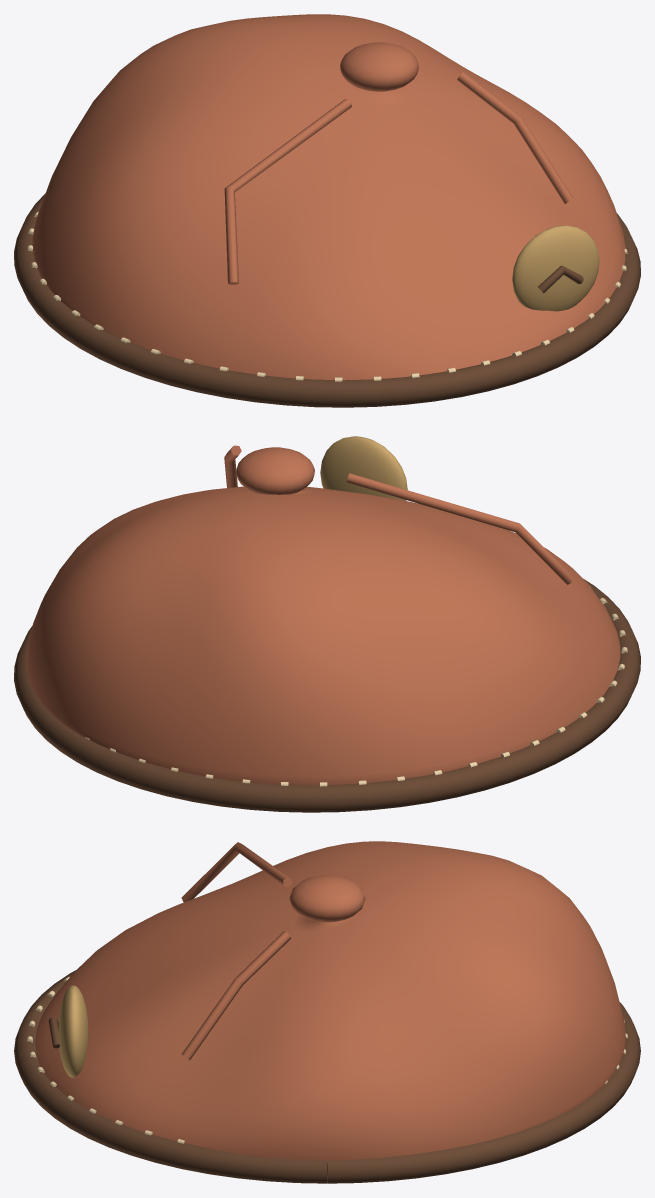
Rendered from hat_pastry_beret_atelier.glb.
3 views of the same model, one above another, from view 1: azimuth 30°, elevation 25°; view 2: azimuth 150°, elevation 25°; view 3: azimuth 270°, elevation 25° (orthographic). The views are drawn at different scales.
Parts seen in each view (by area): view 1: hat_pastry_beret_atelier__WovenClothCinnamonBeret, hat_pastry_beret_atelier__TaggedPainted_hat_pastry_beret_cra, hat_pastry_beret_atelier__Painted_hat_pastry_beret_crafted_M; view 2: hat_pastry_beret_atelier__WovenClothCinnamonBeret, hat_pastry_beret_atelier__TaggedPainted_hat_pastry_beret_cra, hat_pastry_beret_atelier__Painted_hat_pastry_beret_crafted_M; view 3: hat_pastry_beret_atelier__WovenClothCinnamonBeret, hat_pastry_beret_atelier__TaggedPainted_hat_pastry_beret_cra, hat_pastry_beret_atelier__Painted_hat_pastry_beret_crafted_M.
Boxes of the visible parts, x1=… form: hat_pastry_beret_atelier__WovenClothCinnamonBeret: x1=32, y1=14, x2=625, y2=380; hat_pastry_beret_atelier__TaggedPainted_hat_pastry_beret_cra: x1=14, y1=193, x2=640, y2=407; hat_pastry_beret_atelier__Painted_hat_pastry_beret_crafted_M: x1=512, y1=225, x2=599, y2=311; hat_pastry_beret_atelier__WovenClothCinnamonBeret: x1=26, y1=445, x2=620, y2=785; hat_pastry_beret_atelier__TaggedPainted_hat_pastry_beret_cra: x1=14, y1=579, x2=640, y2=812; hat_pastry_beret_atelier__Painted_hat_pastry_beret_crafted_M: x1=320, y1=436, x2=407, y2=500; hat_pastry_beret_atelier__WovenClothCinnamonBeret: x1=35, y1=841, x2=625, y2=1178; hat_pastry_beret_atelier__TaggedPainted_hat_pastry_beret_cra: x1=14, y1=970, x2=640, y2=1183; hat_pastry_beret_atelier__Painted_hat_pastry_beret_crafted_M: x1=58, y1=985, x2=88, y2=1077.
Size of the model in its own units: 0.67 by 0.258 by 0.708.
